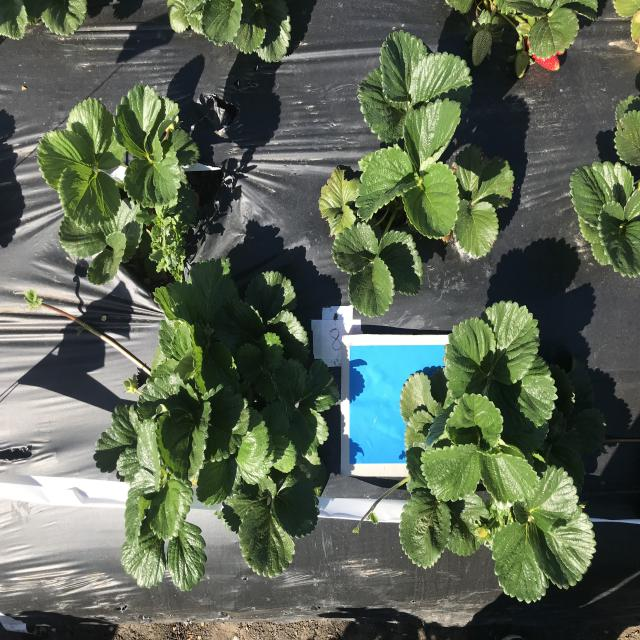Green Strawberry: (471, 28, 491, 68)
Red Strawberry: (527, 33, 561, 71)
